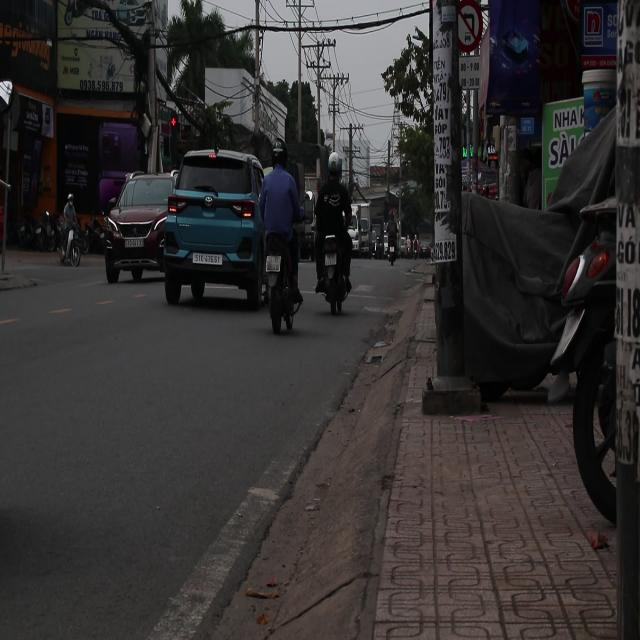car: (161, 148, 269, 308), (102, 173, 174, 283)
motorbike: (264, 228, 305, 336), (321, 224, 351, 320), (58, 223, 82, 270)
